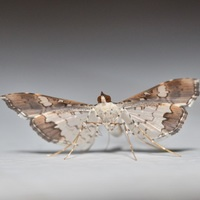insect: (0, 78, 199, 159)
